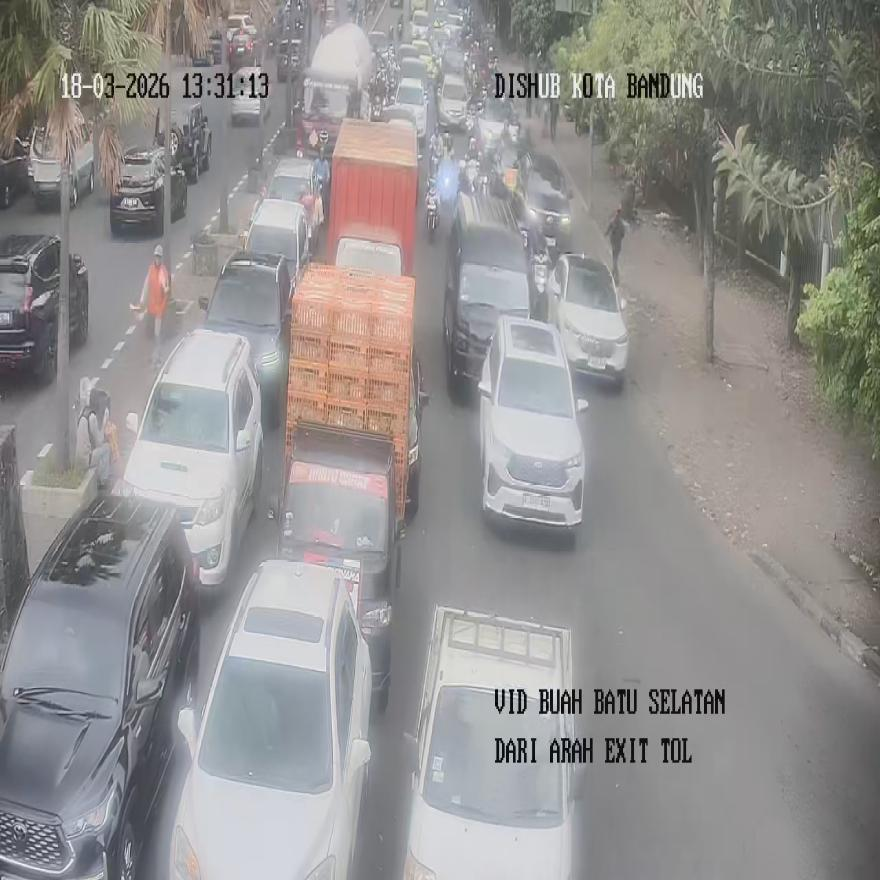Motor: (0, 494, 199, 877), (168, 558, 371, 878), (402, 605, 584, 879), (120, 330, 264, 584), (478, 314, 588, 529), (443, 193, 533, 394), (199, 249, 293, 429), (0, 234, 88, 382), (548, 253, 628, 384), (243, 195, 310, 294), (27, 117, 94, 209), (153, 100, 210, 182)
Truk: (427, 157, 459, 240)
